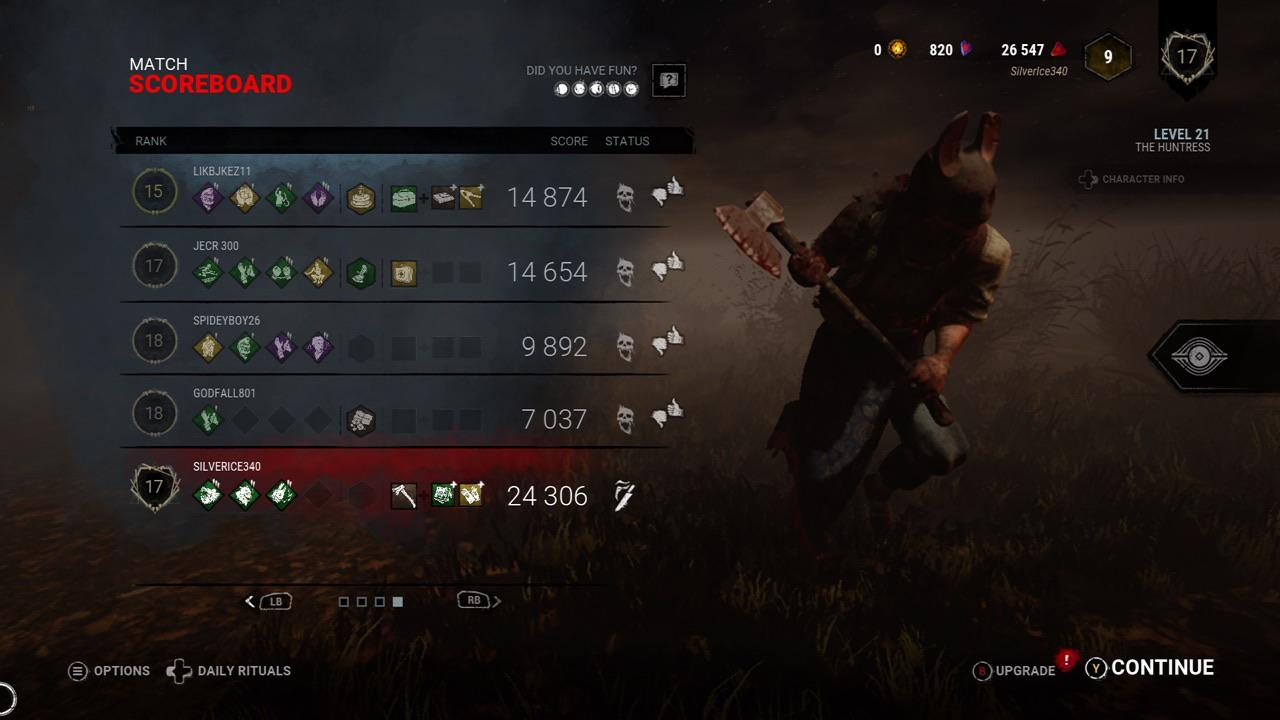beast_of_prey: (191, 478, 225, 511)
blank_perk: (228, 403, 262, 436), (265, 403, 299, 436), (303, 403, 337, 436), (302, 479, 336, 512)
bond: (264, 256, 298, 289)
calm_spirit: (228, 181, 262, 214)
hex:huntress_lullaby: (265, 479, 299, 512)
hope: (301, 181, 335, 214)
left_behind: (190, 332, 224, 365)
lithe: (190, 256, 224, 289)
premonition: (300, 331, 334, 364)
quick_and_quiet: (301, 255, 335, 288)
self_care: (227, 256, 261, 289), (263, 331, 297, 364), (191, 402, 225, 435)
territorial_imperative: (228, 478, 262, 511)
unbreakable: (191, 181, 225, 214), (227, 331, 261, 364)
well_make_it: (264, 181, 298, 214)
